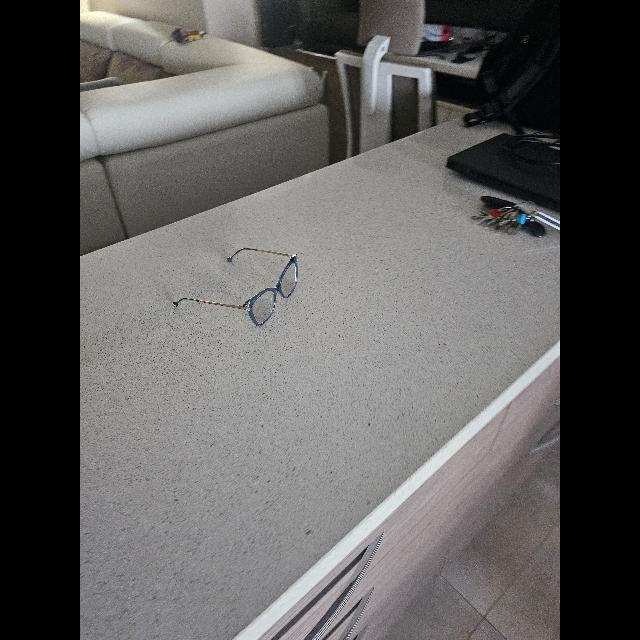Keys: (472, 197, 545, 237)
glasses: (173, 248, 297, 325)
